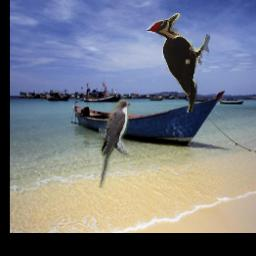Cuckoo: (99, 101, 130, 189)
Woodpecker: (148, 13, 211, 113)
